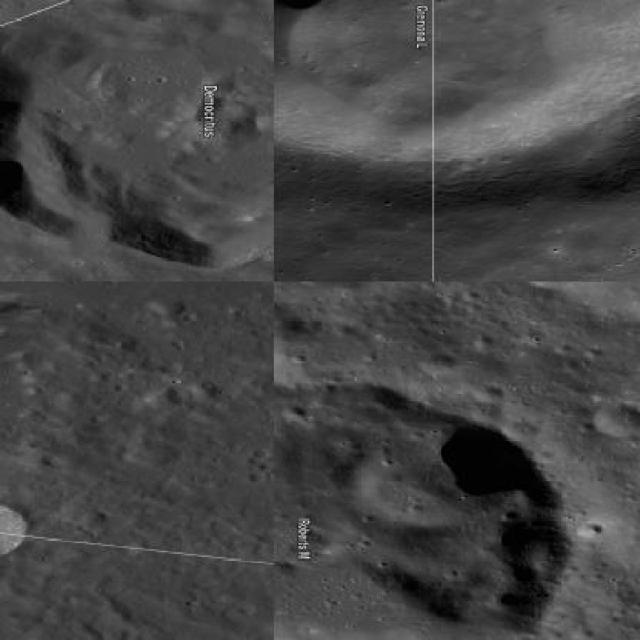crater: (274, 382, 569, 638), (0, 0, 272, 272), (273, 0, 638, 172), (0, 502, 29, 560)
